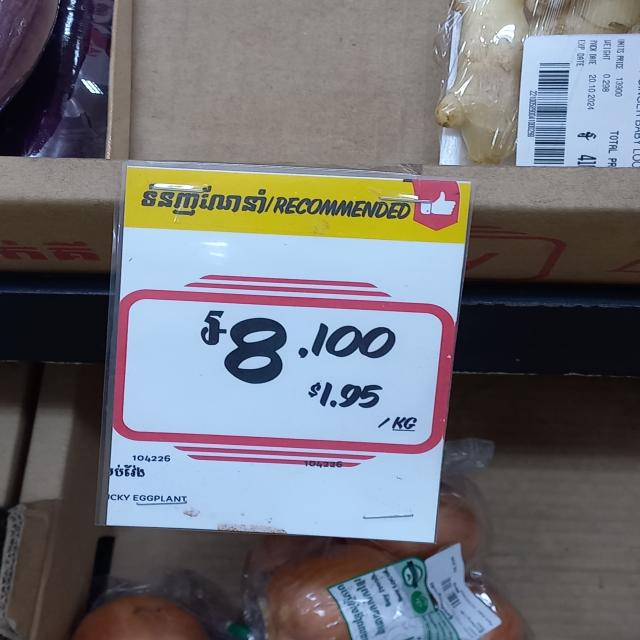526: (311, 375, 387, 413)
542: (127, 448, 178, 464)
845: (197, 299, 407, 399)
Yolov11_80vkh: (127, 175, 273, 227), (122, 462, 148, 480)
